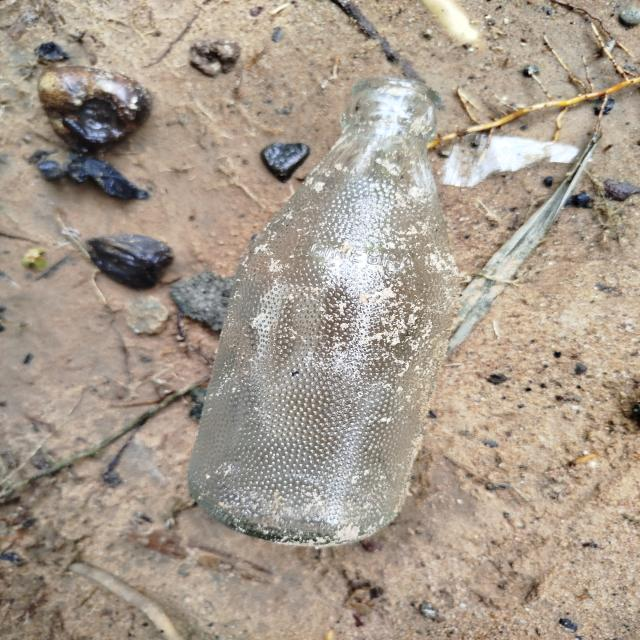glass: (170, 66, 486, 563)
